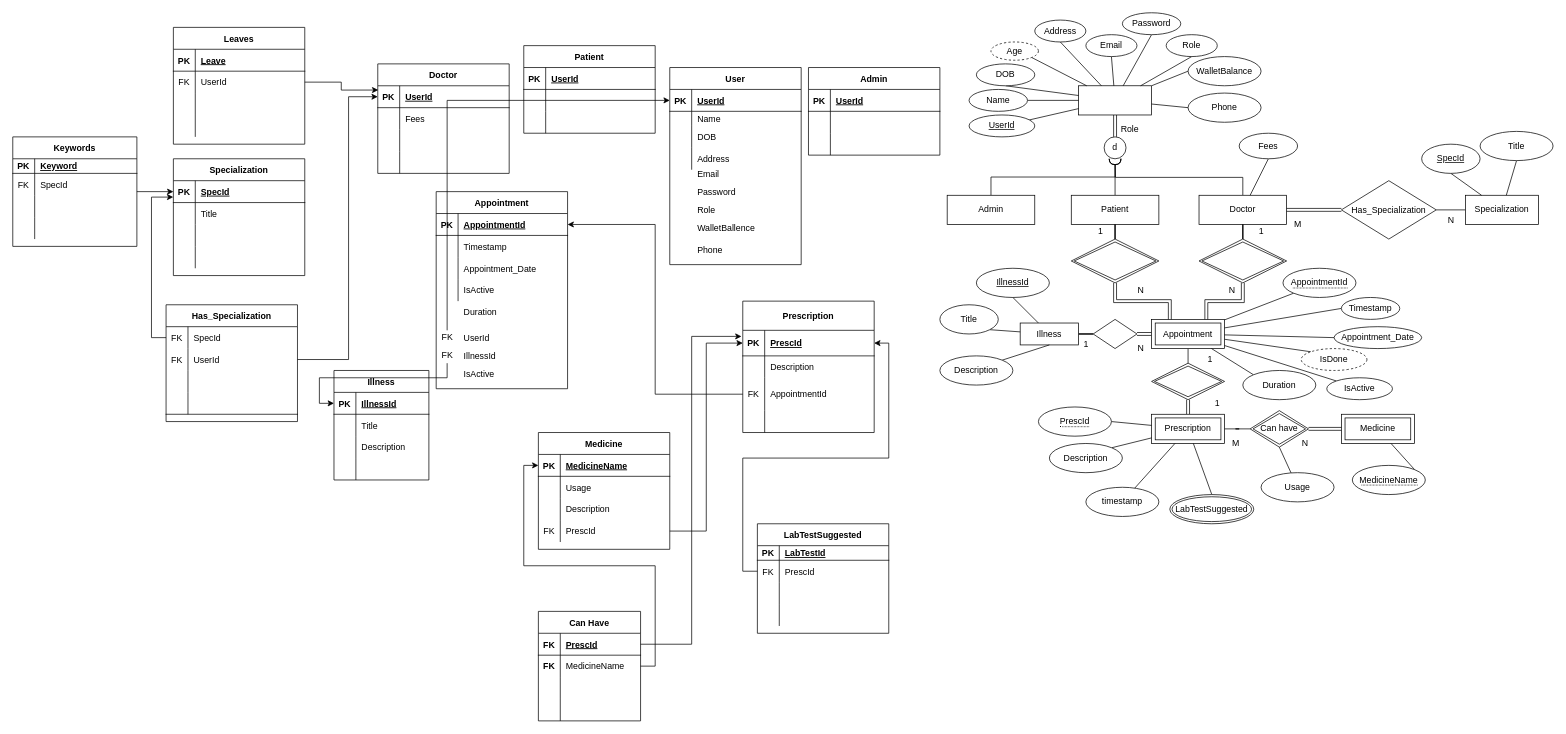
Some shapes in this 1566 by 734 pixel diagram are drawn without their labels. Each missing label, with the centre of its shape:
"For" goes at (1114,334).
"Gets" goes at (1115,260).
"Gives" goes at (1242,260).
"Has" goes at (1188,381).
"Person" goes at (1115,100).
